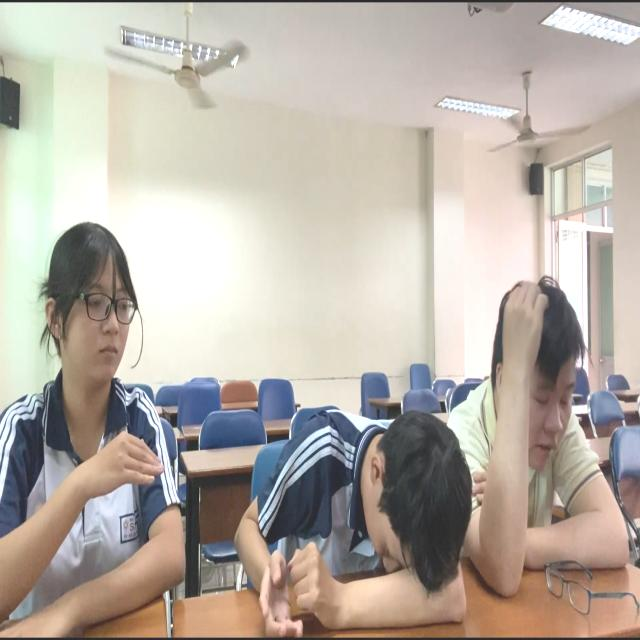sleep: (230, 397, 476, 640)
